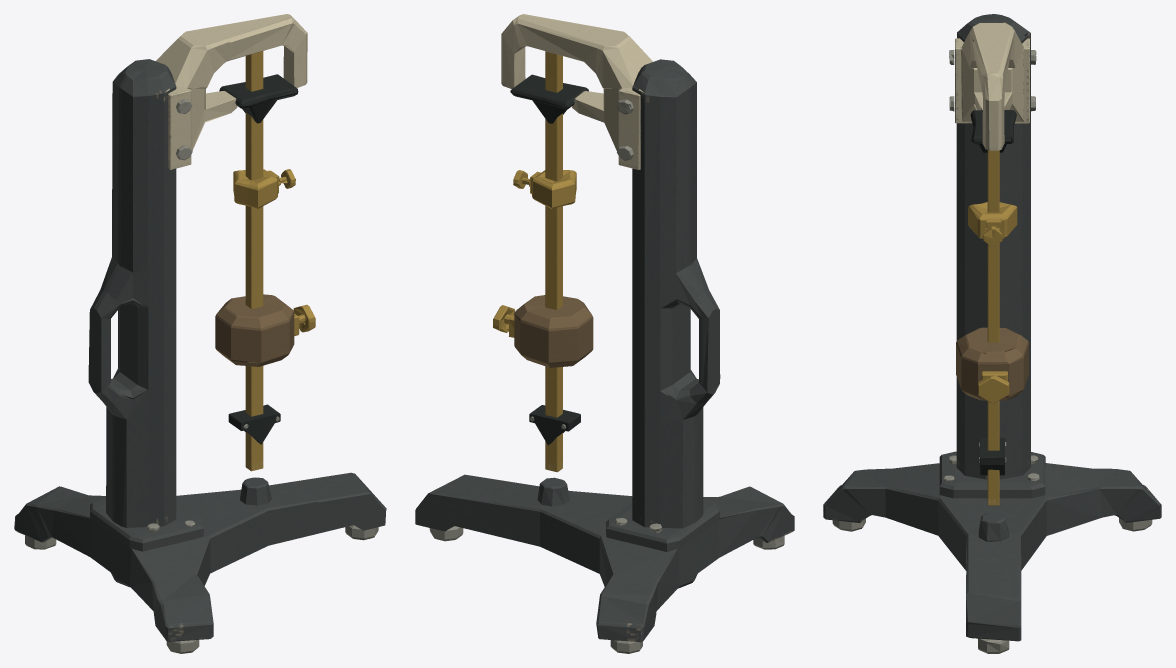
File: 27-kater-pendulum.fbx
3 renders of one model, left to right at view 1: azimuth 30°, elevation 25°; view 2: azimuth 150°, elevation 25°; view 3: azimuth 270°, elevation 25°, orthographic.
Visible parts, largest first — view 1: Meshy_ColumnWithGripAperture, Meshy_Base, Meshy_TopFrame, Meshy_FreePendulumBar, Meshy_LowerClampMass, Meshy_part_06, Meshy_UpperKnifeEdge, Meshy_part_26, Meshy_BearingSupportArm, Meshy_UpperClampMass, Meshy_LowerKnifeEdge, Meshy_part_05; view 2: Meshy_ColumnWithGripAperture, Meshy_Base, Meshy_TopFrame, Meshy_FreePendulumBar, Meshy_LowerClampMass, Meshy_part_06, Meshy_UpperKnifeEdge, Meshy_BearingSupportArm, Meshy_part_26, Meshy_UpperClampMass, Meshy_LowerKnifeEdge, Meshy_part_05; view 3: Meshy_Base, Meshy_ColumnWithGripAperture, Meshy_TopFrame, Meshy_LowerClampMass, Meshy_FreePendulumBar, Meshy_part_06, Meshy_BearingSupportArm, Meshy_UpperClampMass, Meshy_part_26, Meshy_UpperKnifeEdge, Meshy_part_05, Meshy_LowerKnifeEdge (+1 smaller).
Part boxes in pixels (bbox=[...]): Meshy_ColumnWithGripAperture: bbox=[88, 59, 176, 527]; Meshy_Base: bbox=[14, 472, 386, 641]; Meshy_TopFrame: bbox=[156, 14, 307, 88]; Meshy_FreePendulumBar: bbox=[245, 51, 263, 471]; Meshy_LowerClampMass: bbox=[215, 294, 294, 366]; Meshy_part_06: bbox=[90, 499, 203, 551]; Meshy_UpperKnifeEdge: bbox=[219, 74, 298, 123]; Meshy_part_26: bbox=[165, 86, 191, 169]; Meshy_BearingSupportArm: bbox=[187, 88, 237, 150]; Meshy_UpperClampMass: bbox=[233, 169, 277, 208]; Meshy_LowerKnifeEdge: bbox=[228, 404, 280, 444]; Meshy_part_05: bbox=[240, 477, 271, 505]; Meshy_ColumnWithGripAperture: bbox=[632, 59, 720, 528]; Meshy_Base: bbox=[415, 474, 794, 642]; Meshy_TopFrame: bbox=[501, 14, 652, 88]; Meshy_FreePendulumBar: bbox=[545, 51, 562, 472]; Meshy_LowerClampMass: bbox=[514, 295, 593, 367]; Meshy_part_06: bbox=[605, 499, 719, 551]; Meshy_UpperKnifeEdge: bbox=[510, 74, 588, 123]; Meshy_BearingSupportArm: bbox=[572, 88, 622, 150]; Meshy_part_26: bbox=[618, 87, 644, 169]; Meshy_UpperClampMass: bbox=[532, 170, 576, 209]; Meshy_LowerKnifeEdge: bbox=[529, 405, 580, 445]; Meshy_part_05: bbox=[537, 477, 569, 506]; Meshy_Base: bbox=[823, 463, 1161, 641]; Meshy_ColumnWithGripAperture: bbox=[956, 14, 1030, 479]; Meshy_TopFrame: bbox=[961, 22, 1023, 150]; Meshy_LowerClampMass: bbox=[956, 327, 1028, 400]; Meshy_FreePendulumBar: bbox=[987, 150, 999, 505]; Meshy_part_06: bbox=[939, 451, 1045, 498]; Meshy_BearingSupportArm: bbox=[960, 47, 1024, 121]; Meshy_UpperClampMass: bbox=[968, 202, 1017, 238]; Meshy_part_26: bbox=[955, 38, 1029, 123]; Meshy_UpperKnifeEdge: bbox=[970, 110, 1016, 152]; Meshy_part_05: bbox=[978, 512, 1008, 541]; Meshy_LowerKnifeEdge: bbox=[979, 438, 1005, 475].
Size of the model in its own units: 0.5376 by 0.95 by 0.539.
Materials: 6 (6 with a texture image).
